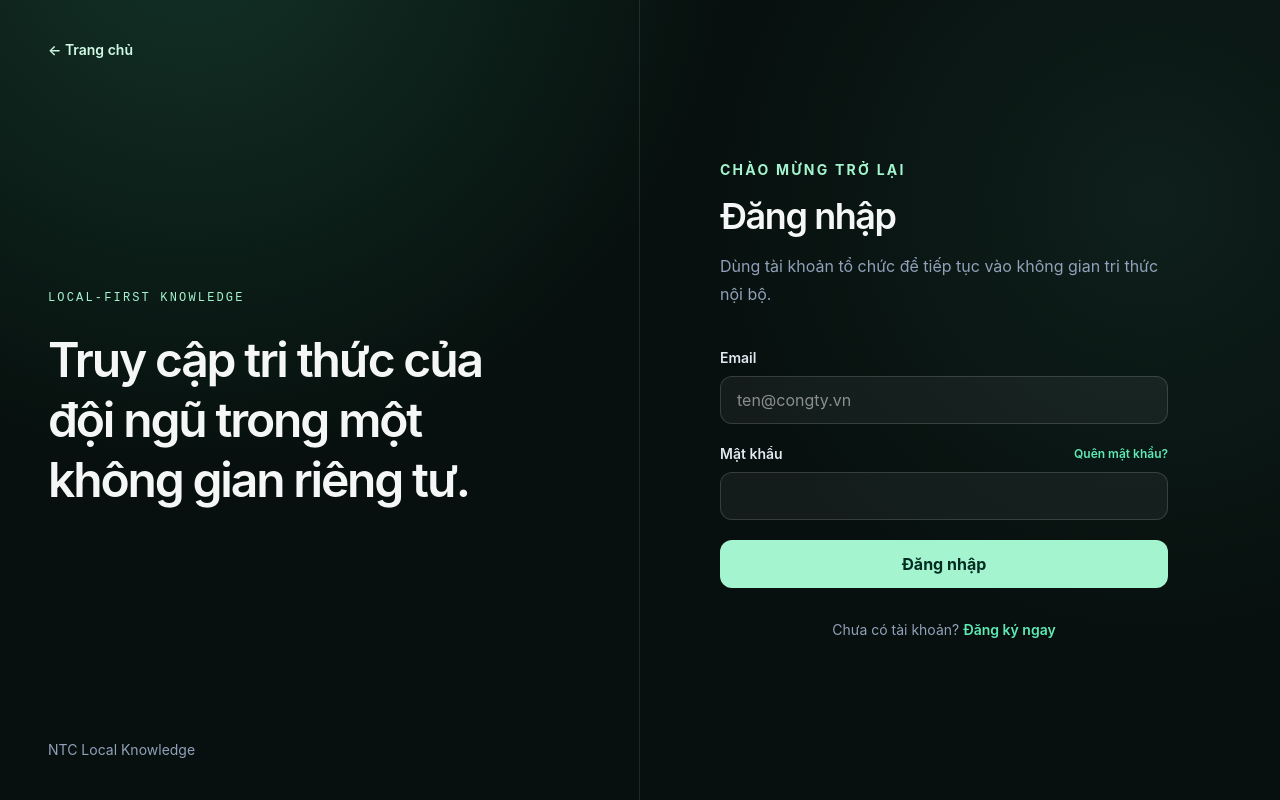
LoginPage › displays validation and credential errors gracefully
The image size is (1280, 800).
Type "test@example.com" into the field labelled "Email".
click(944, 400); type("test@example.com")  # box [720,376,1168,424]
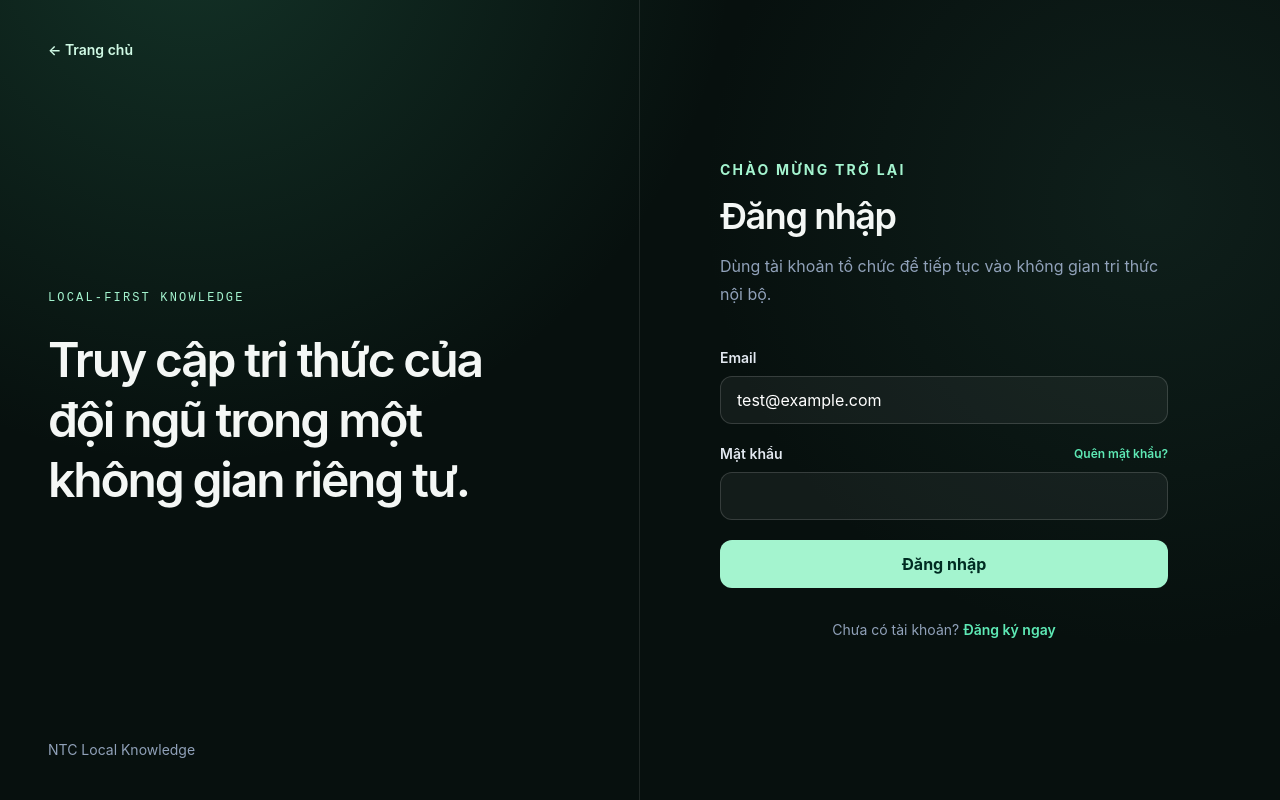
Type "wrong-password" into the password field labelled "Mật khẩu".
click(944, 496); type("wrong-password")  # box [720,472,1168,520]
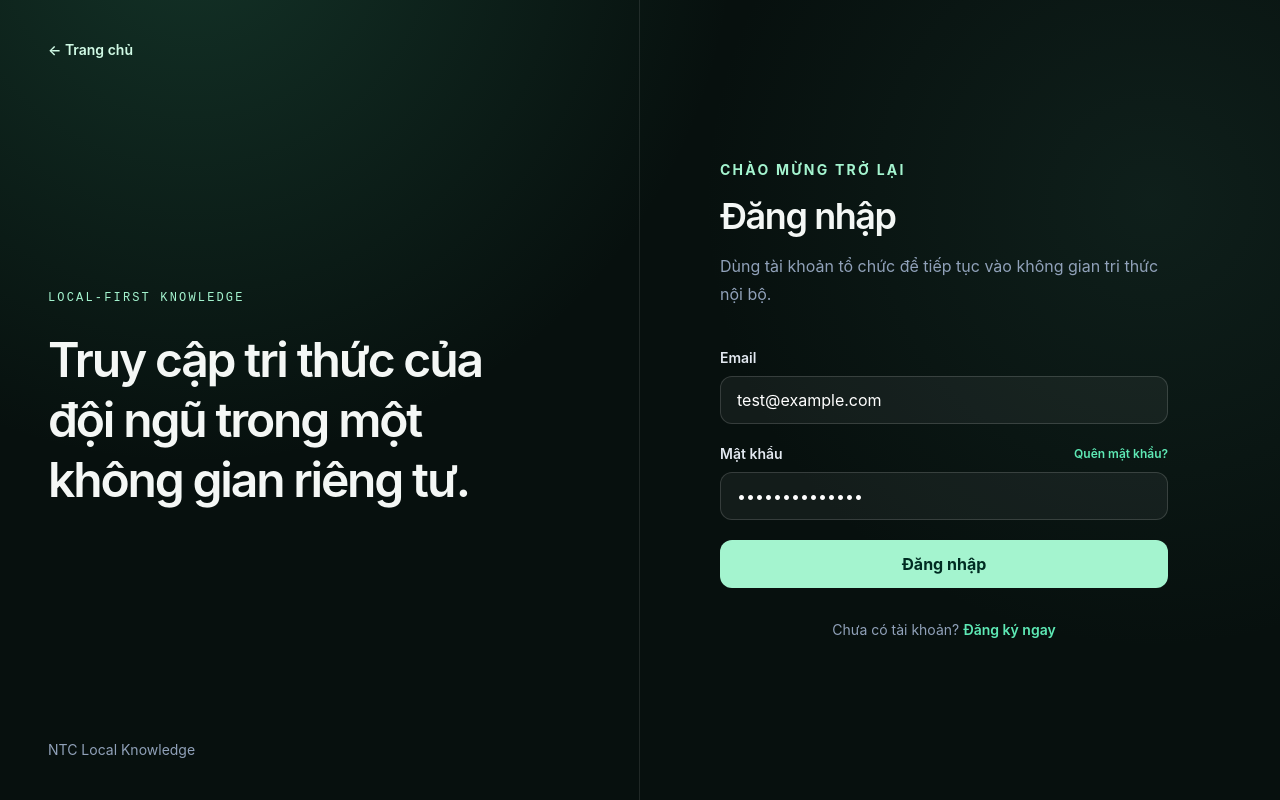
Click the button "Đăng nhập".
click(944, 564)  # box [720,540,1168,588]
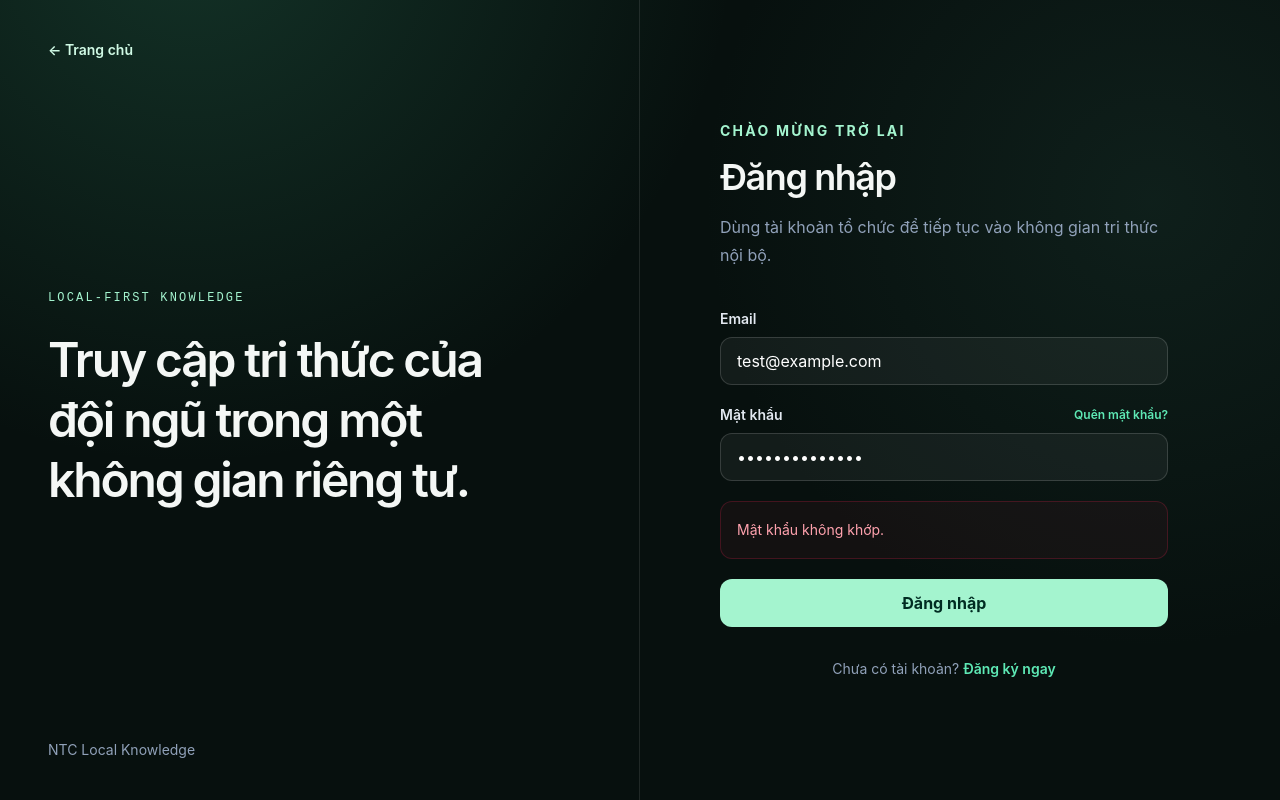
Now the message reads "Mật khẩu không khớp.", box [737,521,884,538]
